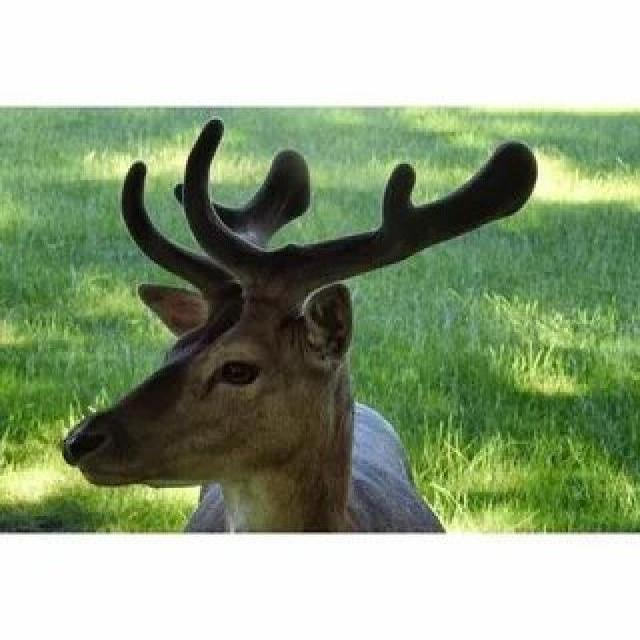deer: (54, 171, 512, 610)
